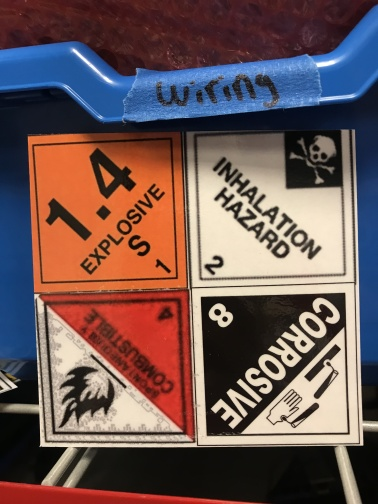Corrosive: (195, 283, 361, 446)
Explosive: (26, 132, 191, 294)
InhalationHazard: (188, 128, 357, 286)
SpontaneouslyCombustible: (34, 292, 198, 444)
